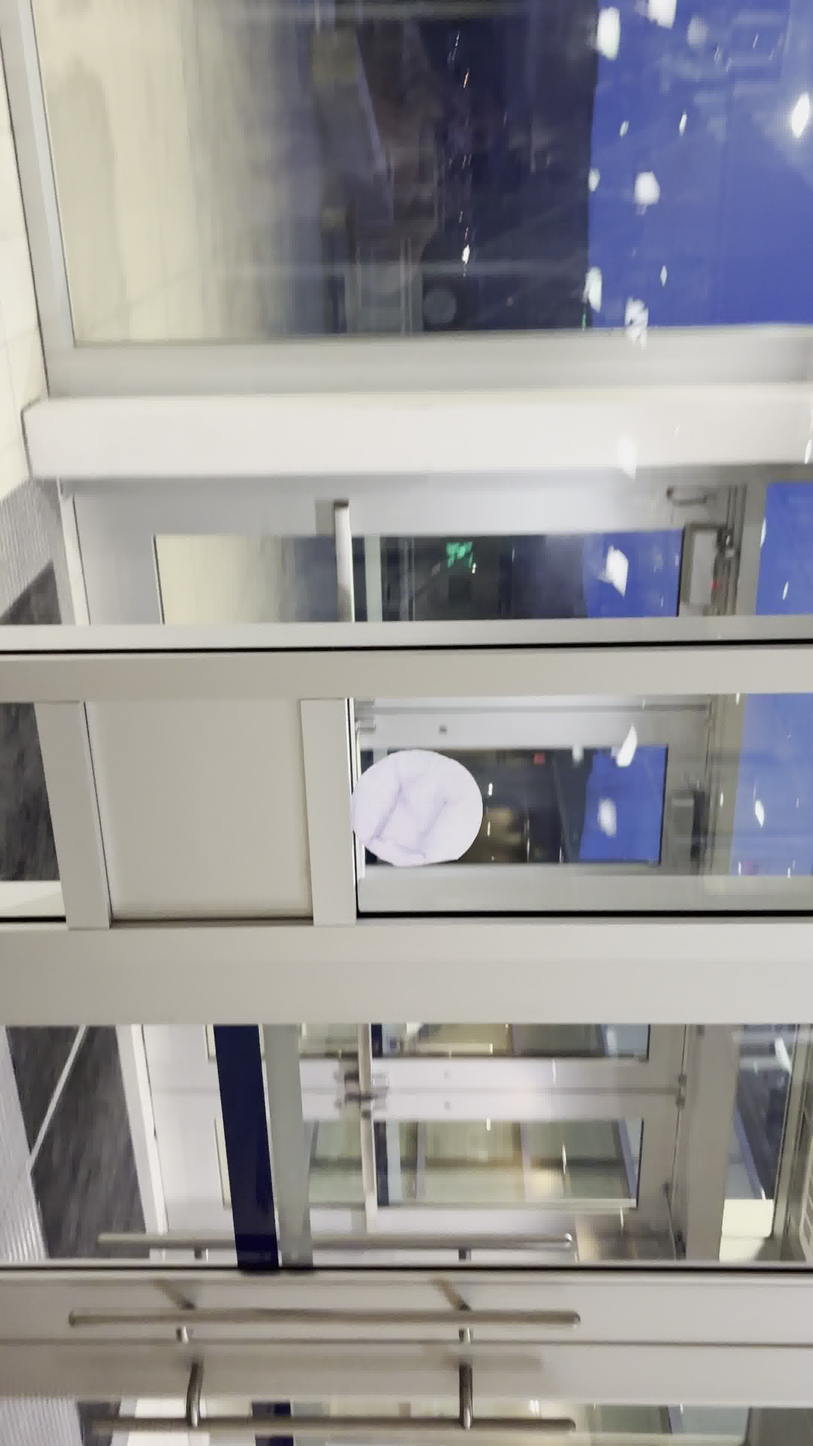Target: (348, 747, 485, 869)
